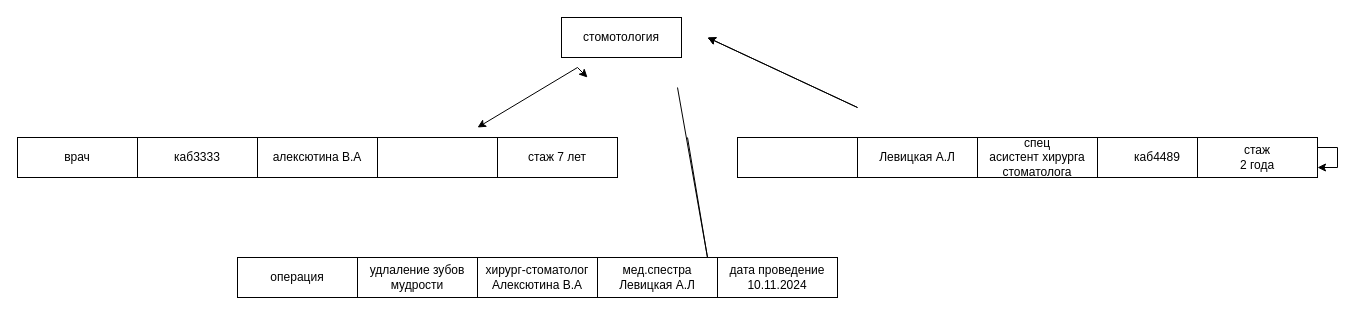
Image size: 1363x315. Some labels were removed from this diagram. Here are the shapes that lost their labels. From the top down, the centre of each, then its label:
At (x=437, y=157): "специалист хирург-стоматолог".
At (x=797, y=157): "мед.сестра".
